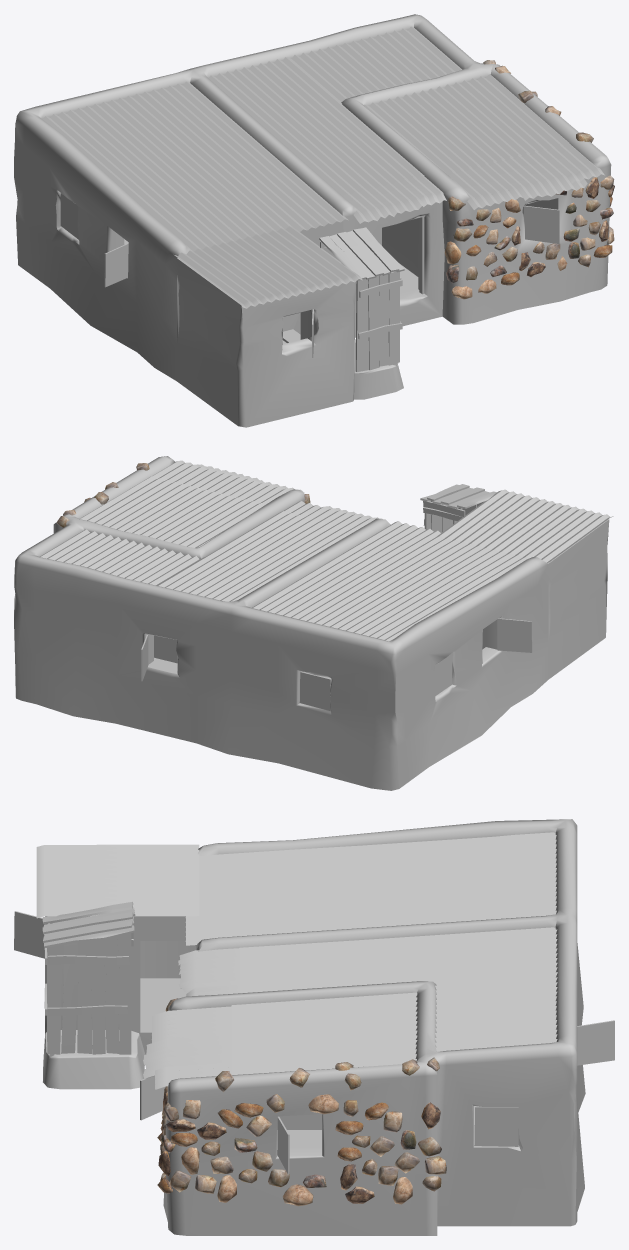
Rendered from House_07.fbx.
3 renders of one model, top to bottom at view 1: azimuth 30°, elevation 25°; view 2: azimuth 150°, elevation 25°; view 3: azimuth 270°, elevation 25°, orthographic. The views are drawn at different scales.
Parts seen in each view (by area): view 1: polySurface3258; view 2: polySurface3258; view 3: polySurface3258.
Boxes of the visible parts, x1=… form: polySurface3258: x1=14, y1=14, x2=614, y2=427; polySurface3258: x1=14, y1=456, x2=613, y2=790; polySurface3258: x1=14, y1=819, x2=614, y2=1235.
Size of the model in its own units: 11.59 by 3.54 by 10.72.
